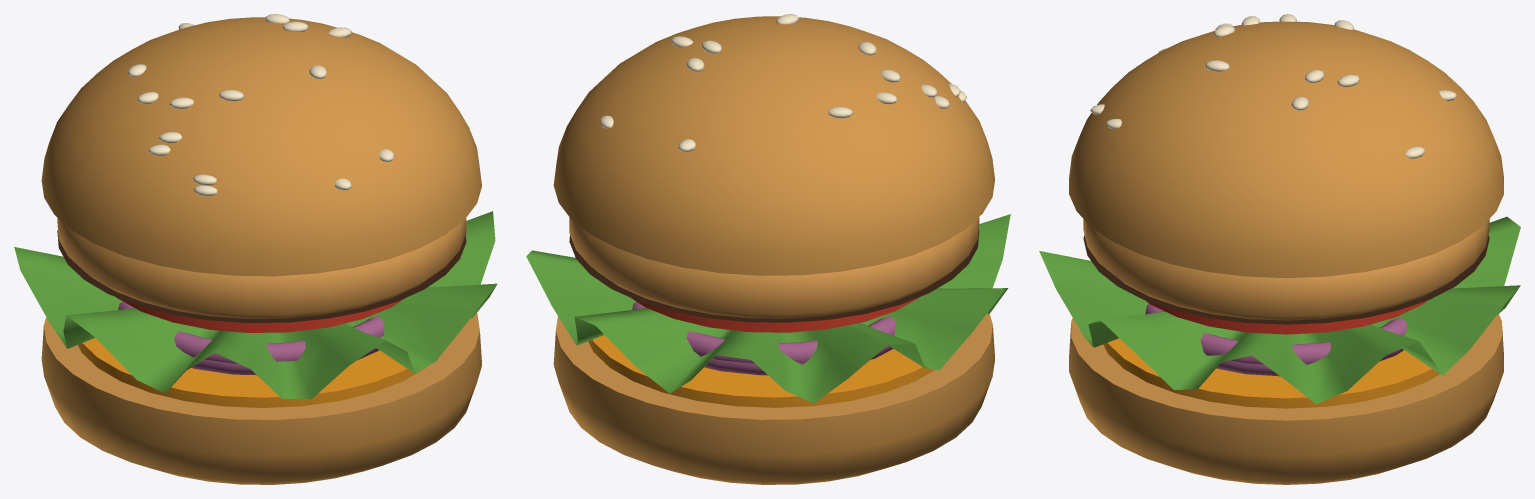
Rendered from burger-chicken.glb.
3 views of the same model, side by side, from view 1: azimuth 30°, elevation 25°; view 2: azimuth 150°, elevation 25°; view 3: azimuth 270°, elevation 25° (orthographic).
Parts seen in each view (by area): view 1: burger-chicken; view 2: burger-chicken; view 3: burger-chicken.
Boxes of the visible parts, x1=… form: burger-chicken: x1=14, y1=14, x2=497, y2=484; burger-chicken: x1=526, y1=14, x2=1010, y2=484; burger-chicken: x1=1039, y1=14, x2=1520, y2=484.
Bounding box in the file's own units: 0.1297 × 0.1062 × 0.128.
